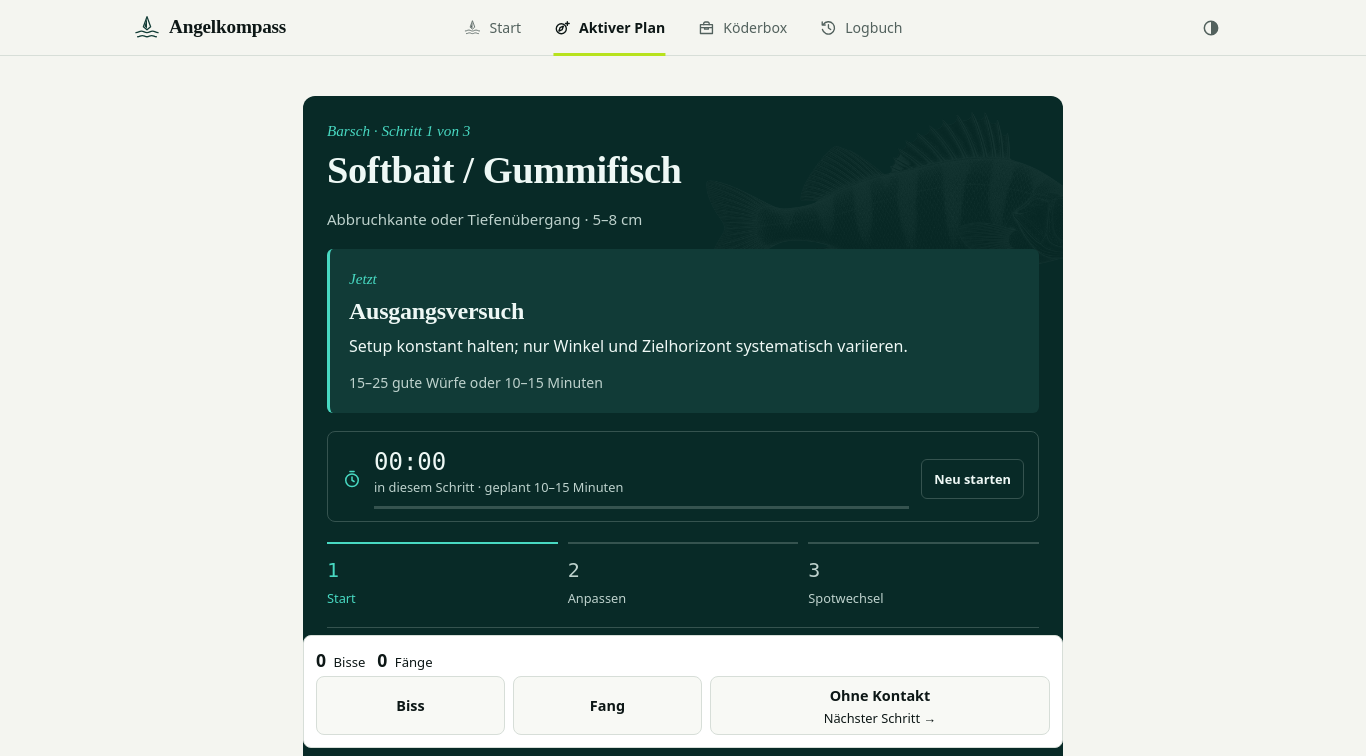
Test: Aktueller Arbeitsauftrag und gespeicherter Startplan › wechselt bei Speicherfehlern nicht zu einer ungesicherten Anweisung
What coordinates should you click on to do the following:
click the button with aria-label "Ohne Kontakt → nächster Schritt"
I would click on:
 (880, 705)
Its box is [710,676,1050,735].
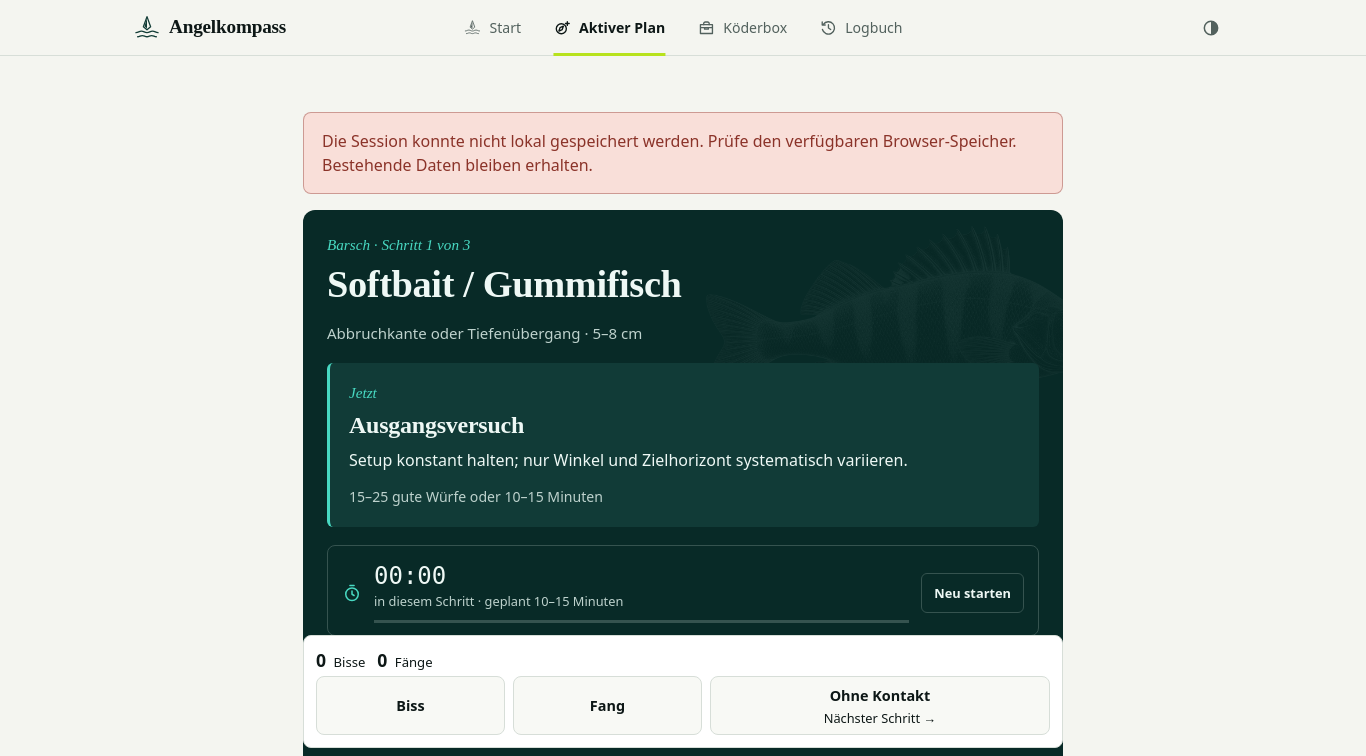
Expected: the element named "Aktueller Handlungsschritt" shows "Setup konstant halten; nur Winkel und Zielhorizont systematisch variieren.", [349,450,908,472]
Expected: the 1st message shows "nicht lokal gespeichert", [322,130,1016,176]
